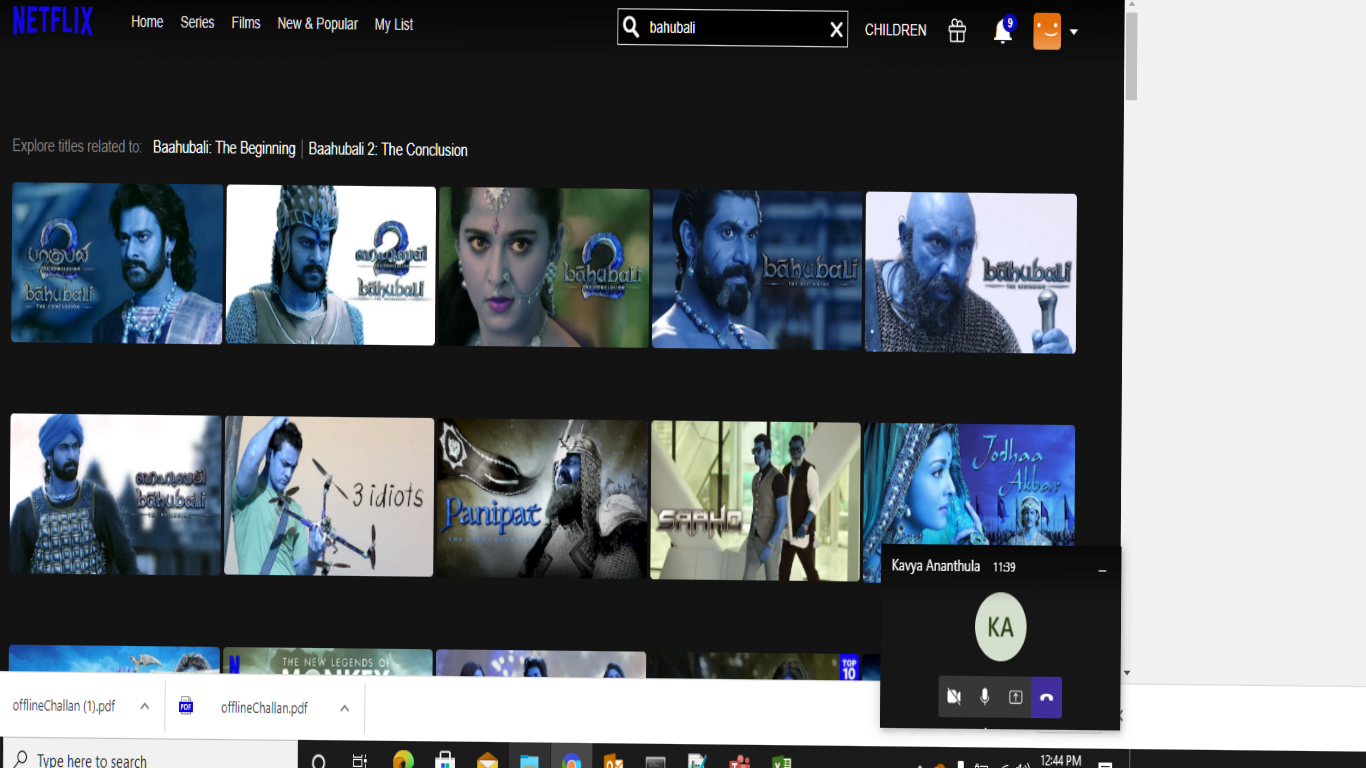profileicon: (1031, 4, 1082, 63)
resultsfound: (7, 119, 483, 178)
searchicon: (619, 7, 640, 42)
searchtextbox: (603, 1, 855, 55)
